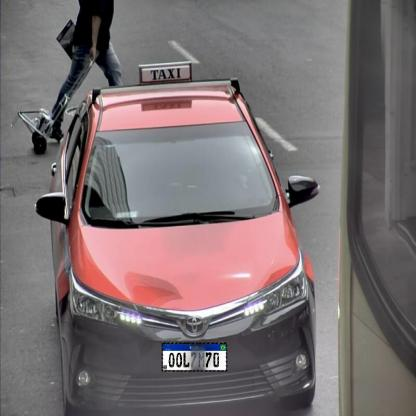PlacaM: (162, 342, 227, 372)
